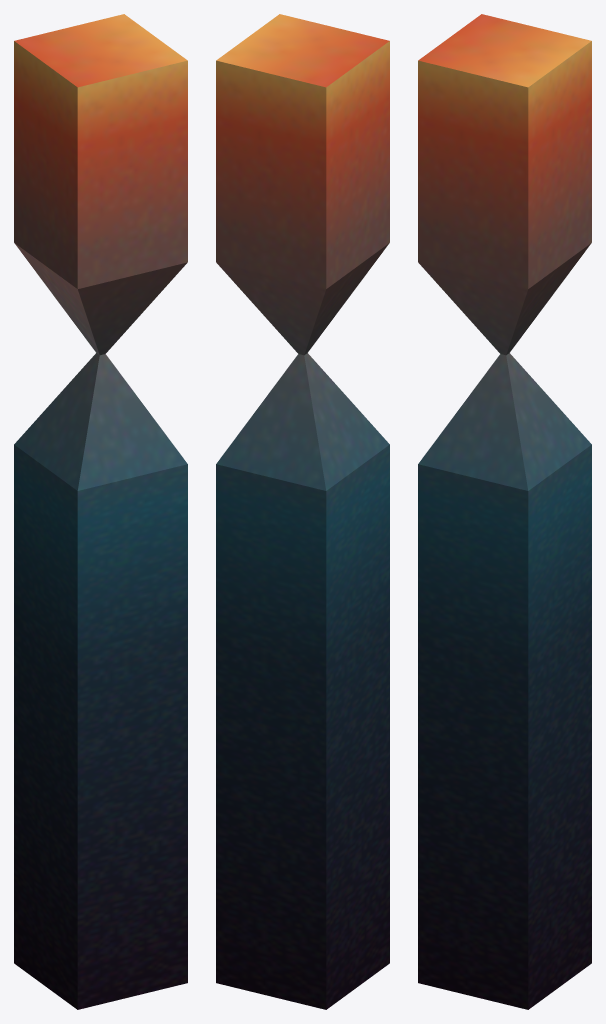
File: Marselisk.fbx
The picture shows the model from 3 angles, left to right: view 1: azimuth 30°, elevation 25°; view 2: azimuth 150°, elevation 25°; view 3: azimuth 330°, elevation 25°; orthographic projection.
Parts seen in each view (by area): view 1: Marselisk; view 2: Marselisk; view 3: Marselisk.
Boxes of the visible parts, bbox=[...] form: Marselisk: bbox=[14, 14, 187, 1009]; Marselisk: bbox=[216, 14, 389, 1009]; Marselisk: bbox=[418, 14, 591, 1009].
Size of the model in its own units: 200 by 1600 by 200.
